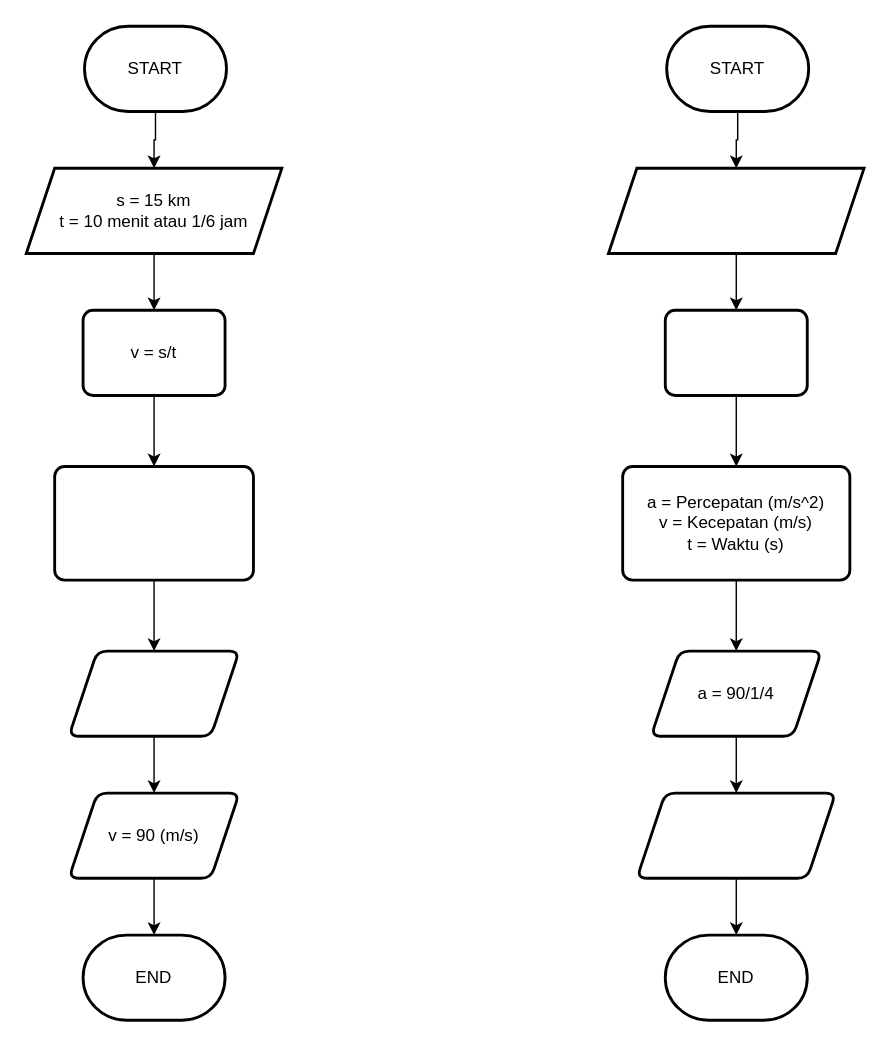
This 889x1045 diagram has some shape labels left out. The shapes that lost their labels are listed below. From the top down, each one's centre as x and y in pixels, then its label:
pixel 735 210: v = 90 (m/s) t = 15 menit atau 1/4 jam
pixel 735 352: a = v/t
pixel 153 522: v = Kecepatan (m/s) s = Jarak (km) t = Waktu (jam)
pixel 153 693: v = 15/1/6
pixel 735 835: a = 360 (m/s^2)
